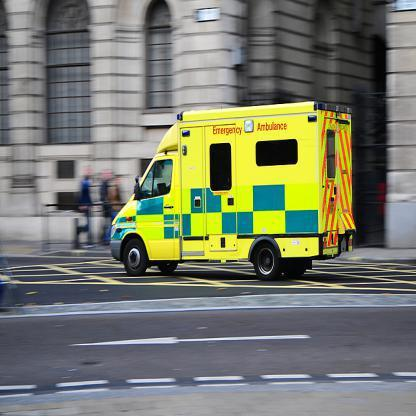Ambulance - v1 Ambulance last generate: (113, 96, 355, 271)
